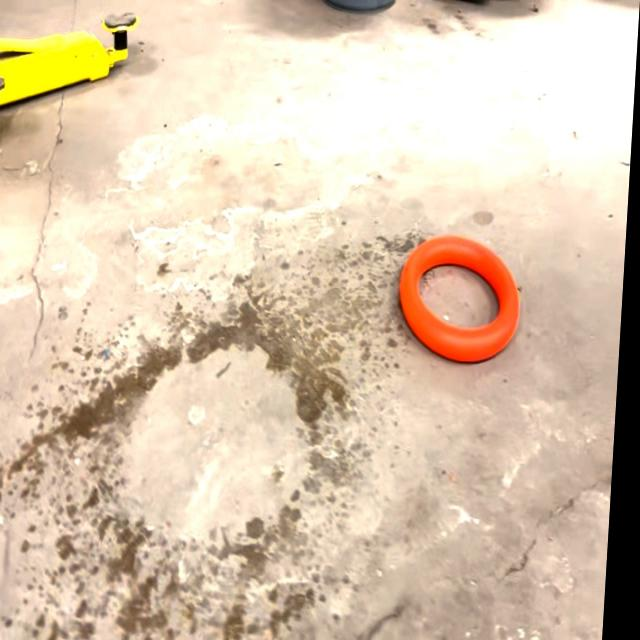note: (400, 238, 525, 366)
